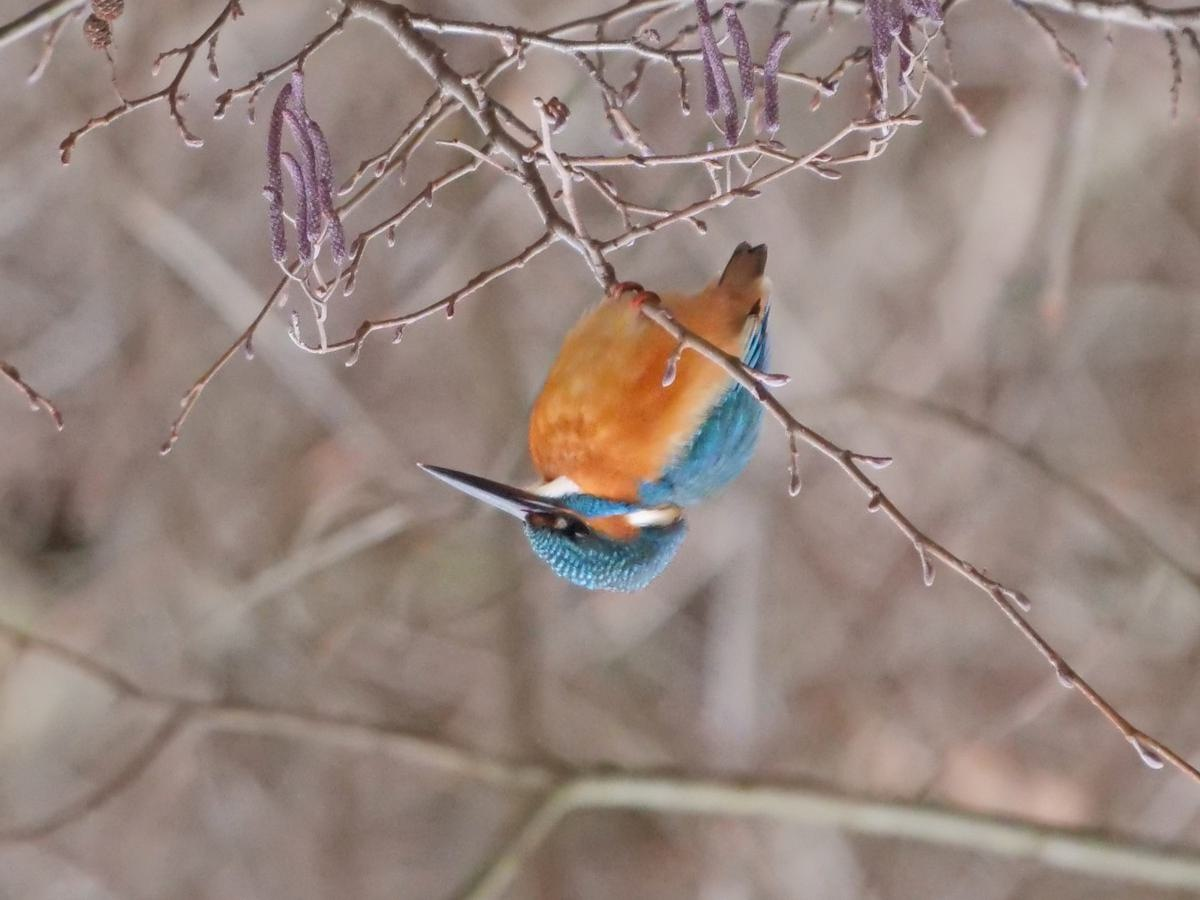kingfisher: (423, 235, 775, 605)
